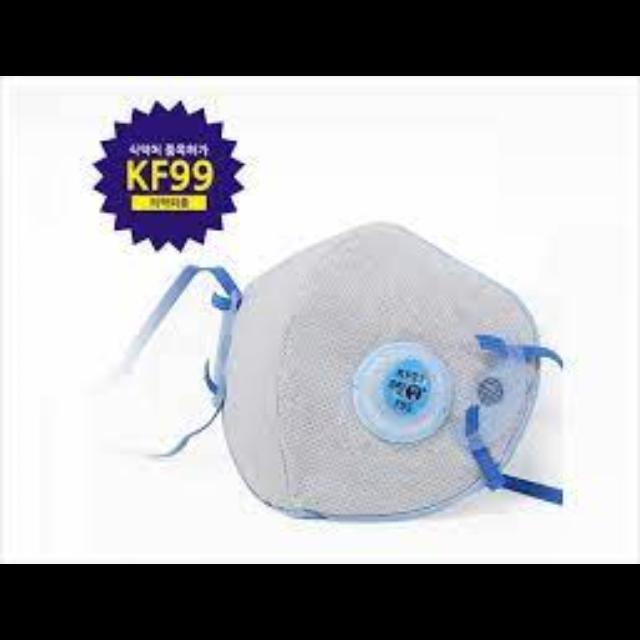masks: (180, 218, 600, 536)
